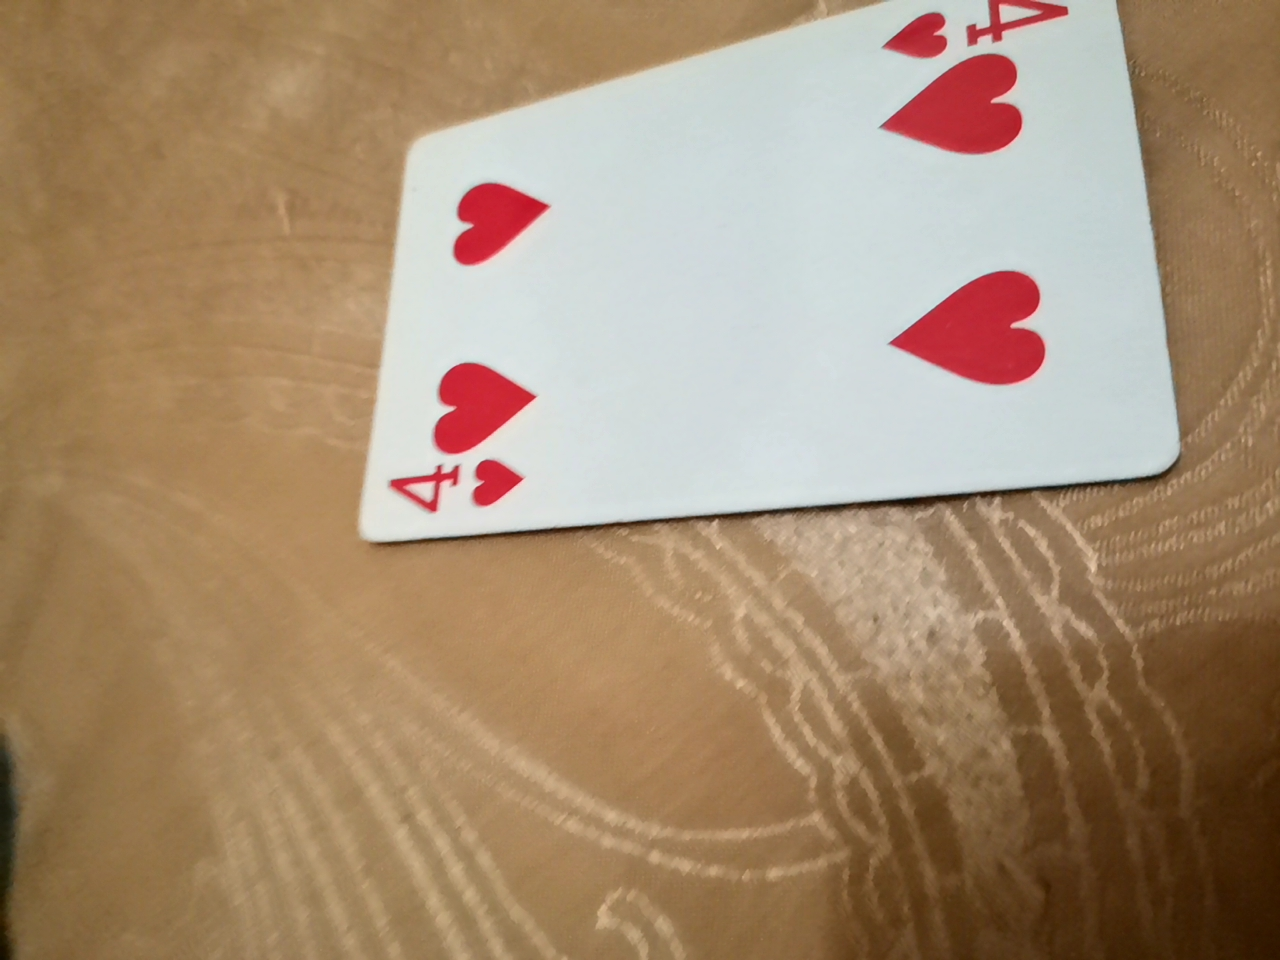hx 4: (379, 4, 1172, 537)
